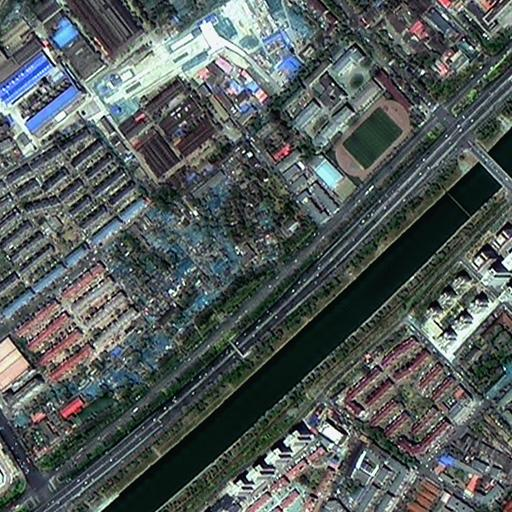school: (274, 41, 419, 227)
